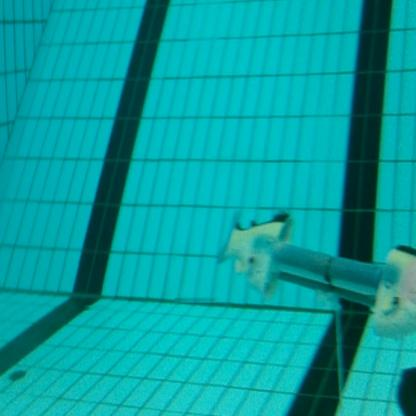tail: (216, 204, 294, 298)
